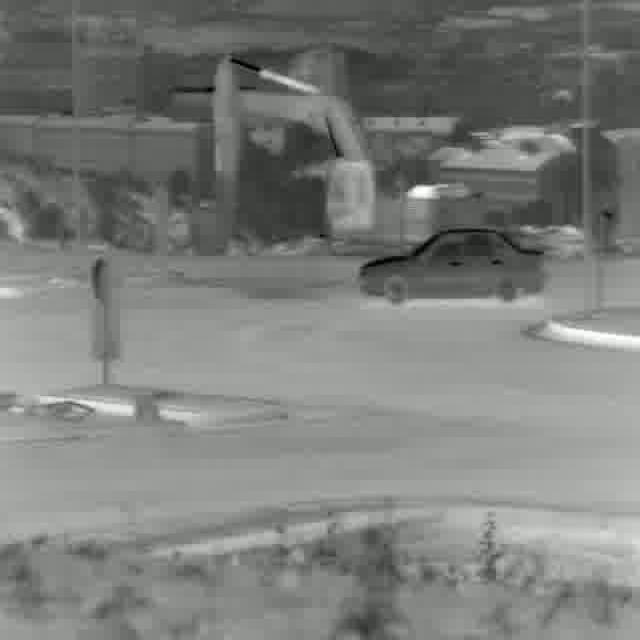Car: (357, 227, 546, 306)
